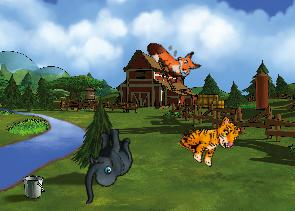elephant: (72, 125, 140, 204)
fox: (143, 26, 204, 87)
tiger: (176, 103, 244, 173)
